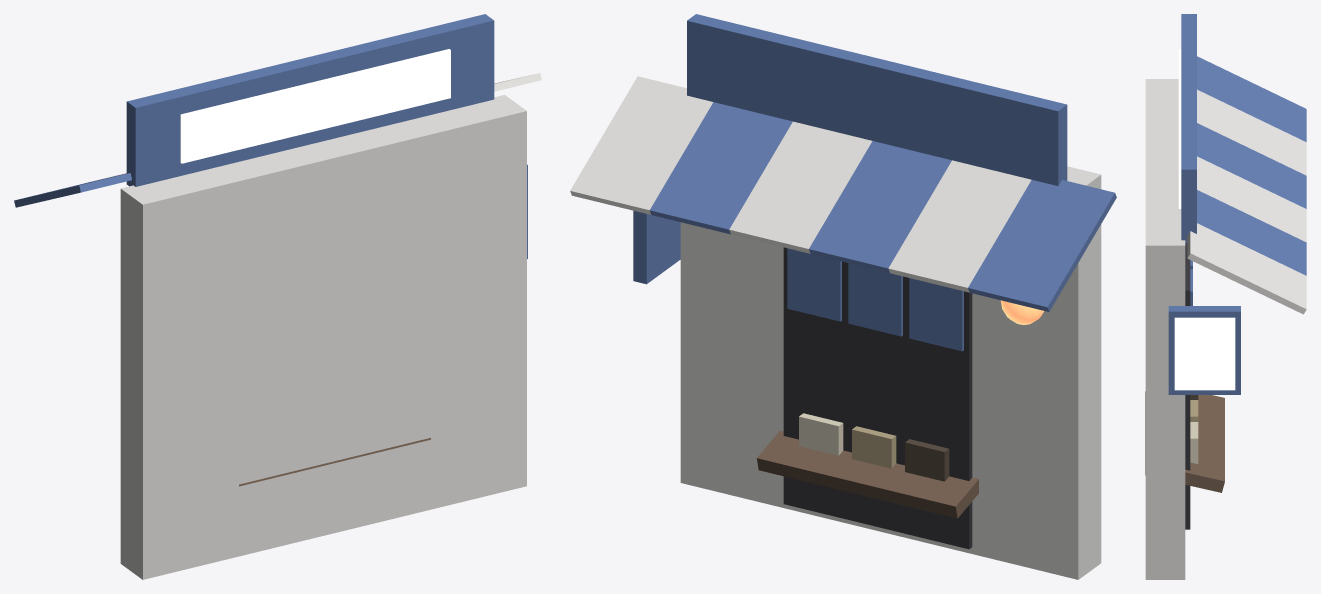
The model's file is prop_mise_tofu.glb.
The picture shows the model from 3 angles, left to right: view 1: azimuth 30°, elevation 25°; view 2: azimuth 150°, elevation 25°; view 3: azimuth 270°, elevation 25°; orthographic projection. The views are drawn at different scales.
Visible parts, largest first — view 1: mise_tofu; view 2: mise_tofu; view 3: mise_tofu.
Boxes of the visible parts, bbox=[...] form: mise_tofu: bbox=[14, 14, 541, 579]; mise_tofu: bbox=[570, 14, 1116, 579]; mise_tofu: bbox=[1145, 14, 1306, 579].
Size of the model in its own units: 3.6 by 3.39 by 1.23.
